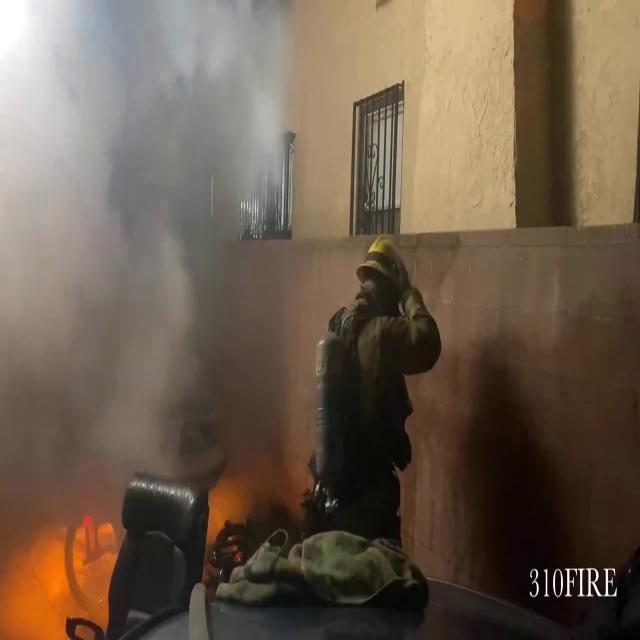Fire: (0, 516, 120, 638)
Smoke: (0, 1, 356, 505)
